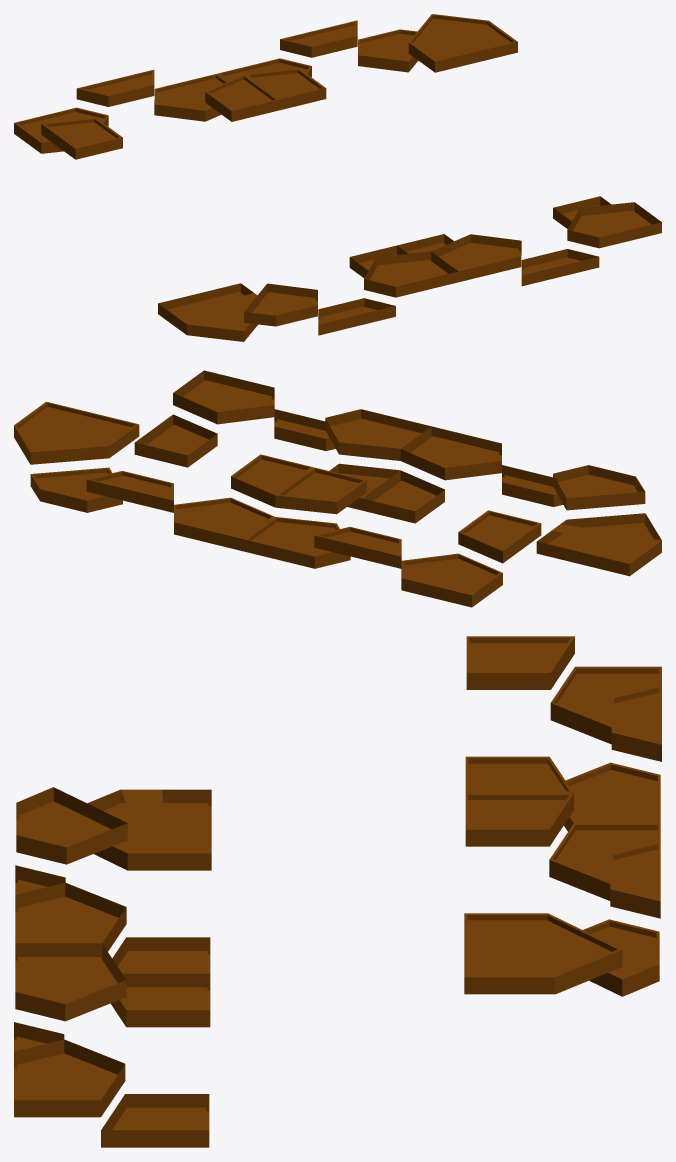
Rendered from blockout_fioriere.FBX.
3 renders of one model, top to bottom at view 1: azimuth 30°, elevation 25°; view 2: azimuth 150°, elevation 25°; view 3: azimuth 270°, elevation 25°, orthographic. The views are drawn at different scales.
Visible parts, largest first — view 1: fioriere_blockout, fioriere_blockout001; view 2: fioriere_blockout, fioriere_blockout001; view 3: fioriere_blockout, fioriere_blockout001.
Part boxes in pixels (x1,y1,x2,y2): fioriere_blockout: [14, 14, 517, 159]; fioriere_blockout001: [158, 196, 661, 341]; fioriere_blockout: [14, 401, 541, 607]; fioriere_blockout001: [134, 370, 661, 576]; fioriere_blockout: [464, 636, 661, 996]; fioriere_blockout001: [14, 787, 211, 1147].
Bounding box in the file's own units: 7.53 × 1.73 × 6.02.
